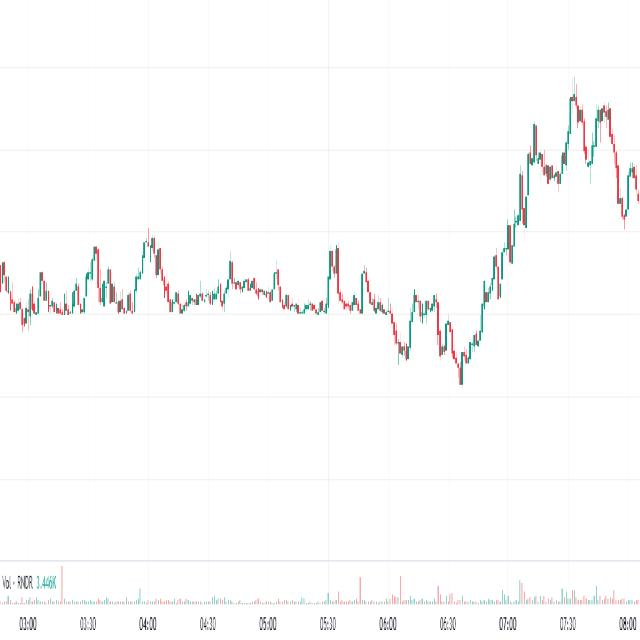Channel-up: (443, 102, 560, 422)
